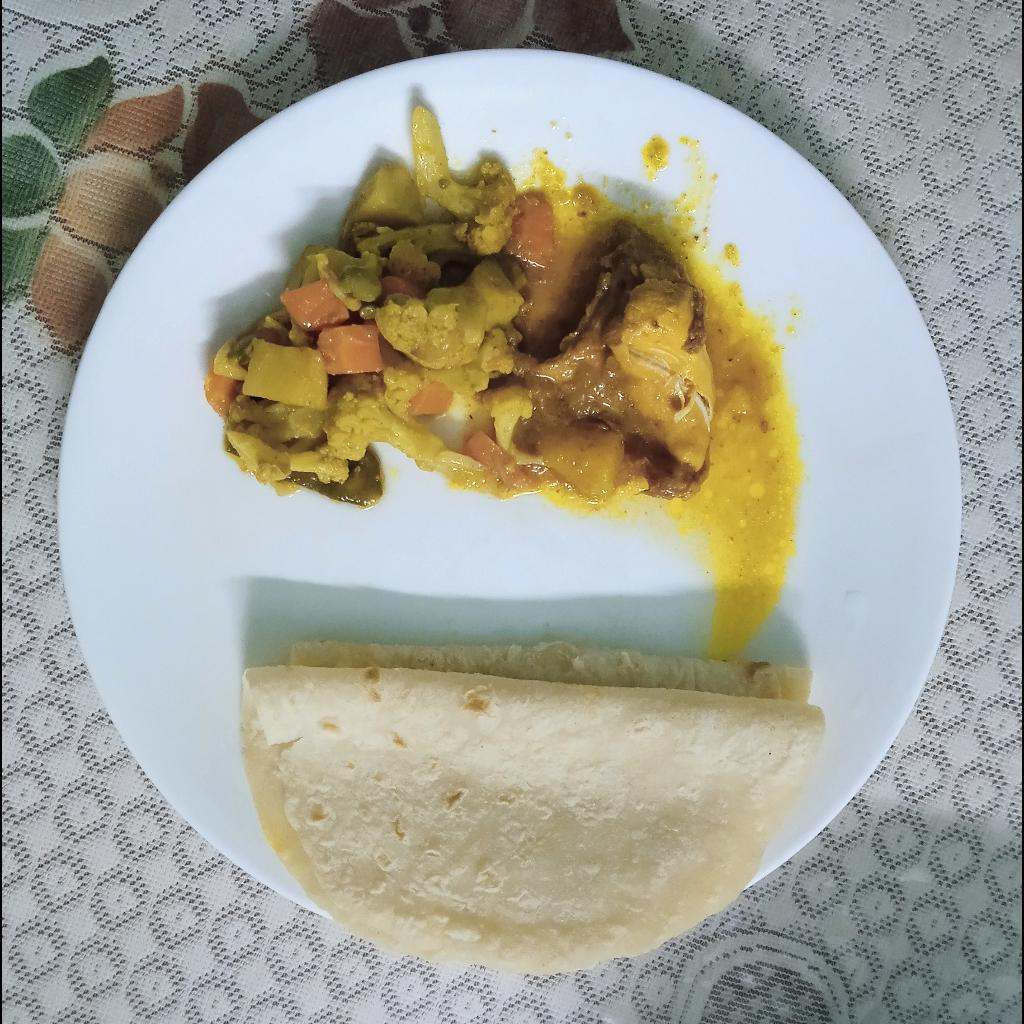chicken: (546, 217, 720, 496)
potato: (538, 425, 625, 503)
ruti: (243, 641, 829, 964)
vegetable: (196, 106, 555, 510)
